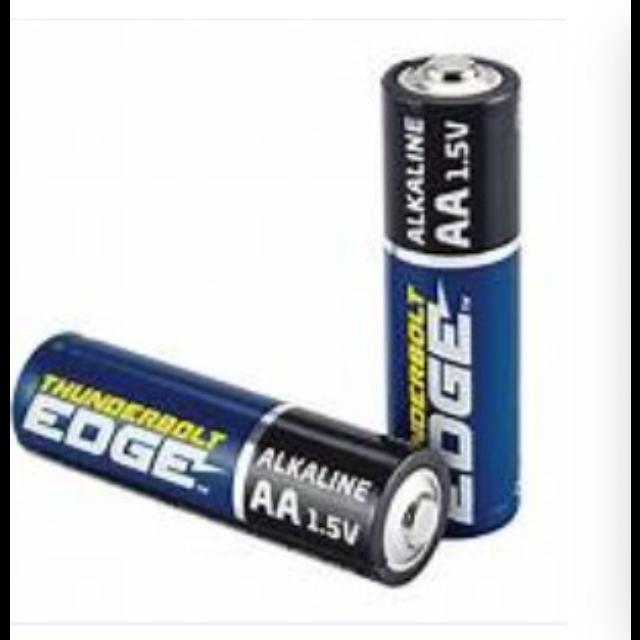Battery: (11, 333, 449, 587)
